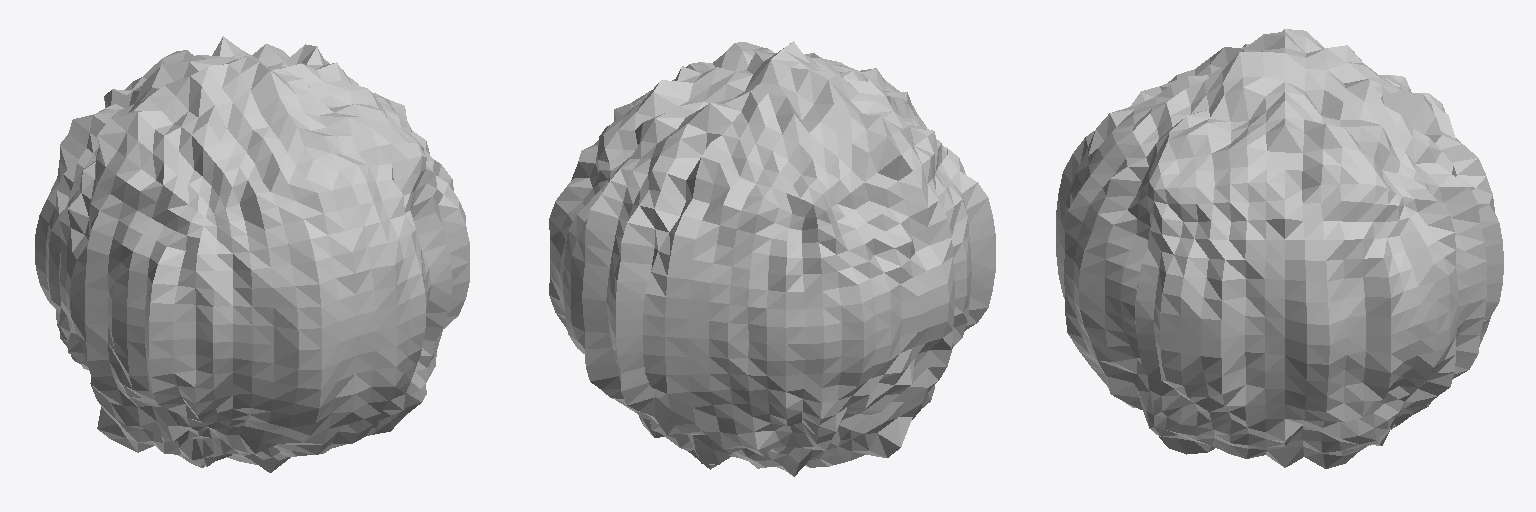
File: asteroid200.obj
3 views of the same model, side by side, from view 1: azimuth 30°, elevation 25°; view 2: azimuth 150°, elevation 25°; view 3: azimuth 270°, elevation 25° (orthographic).
Visible parts, largest first — view 1: Cube_Cube.002; view 2: Cube_Cube.002; view 3: Cube_Cube.002.
Boxes of the visible parts, <box> form: Cube_Cube.002: <box>35,36,469,472</box>; Cube_Cube.002: <box>549,41,995,476</box>; Cube_Cube.002: <box>1056,29,1503,468</box>.
Size of the model in its own units: 1.75 by 1.83 by 1.84.